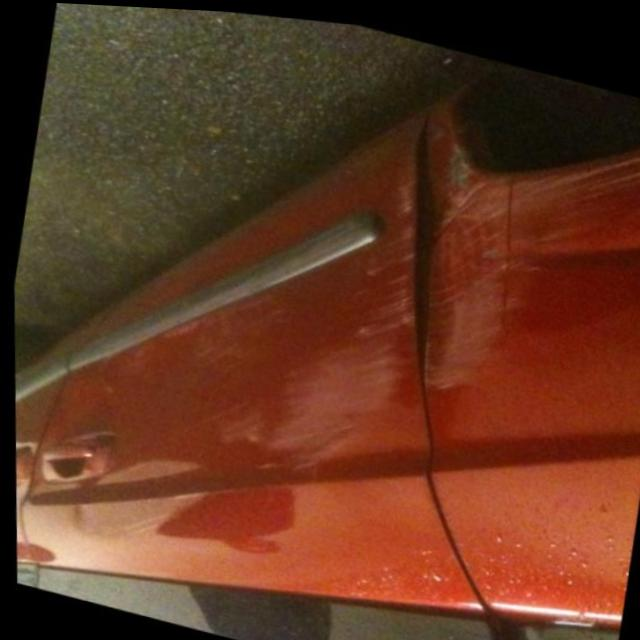Scratch: (225, 154, 507, 478)
